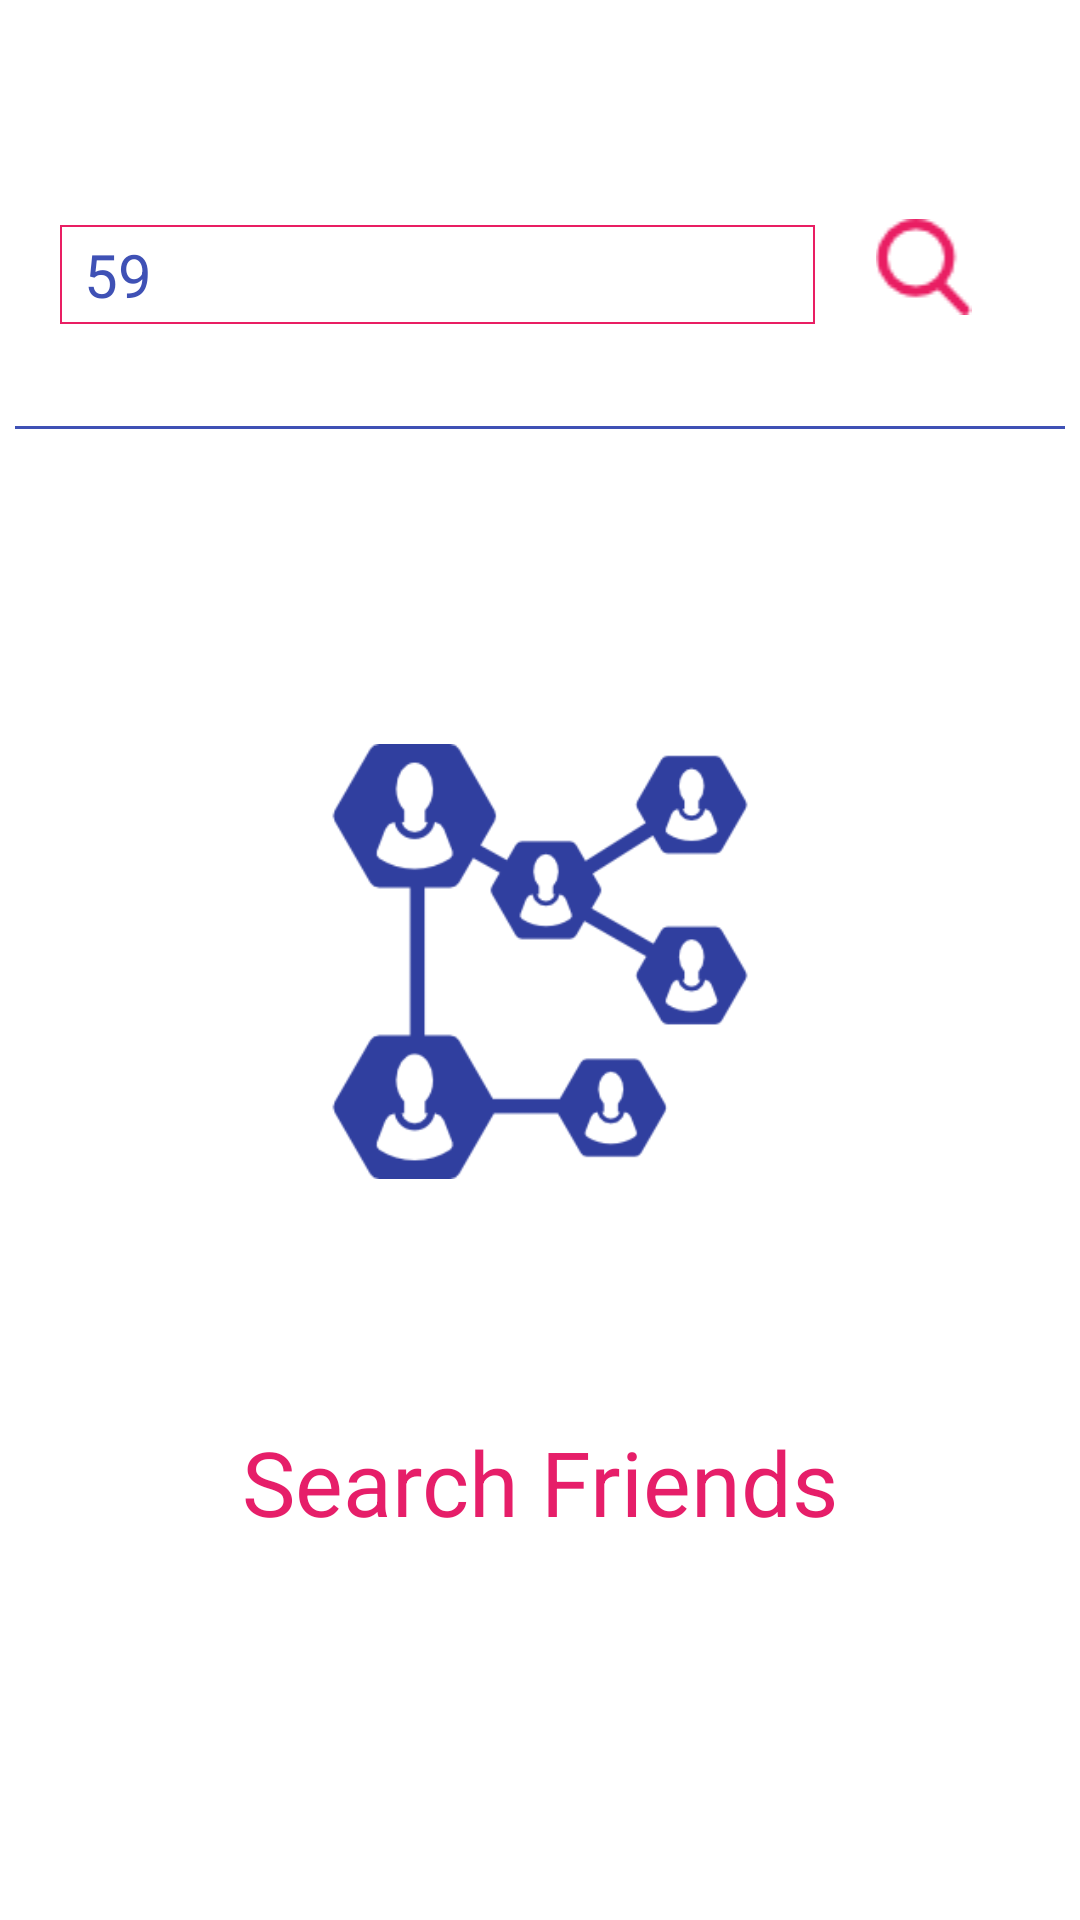

Point at icon controls on the screen. Image size 1080×1920, points as [x,y].
pnk search: [924,267]
